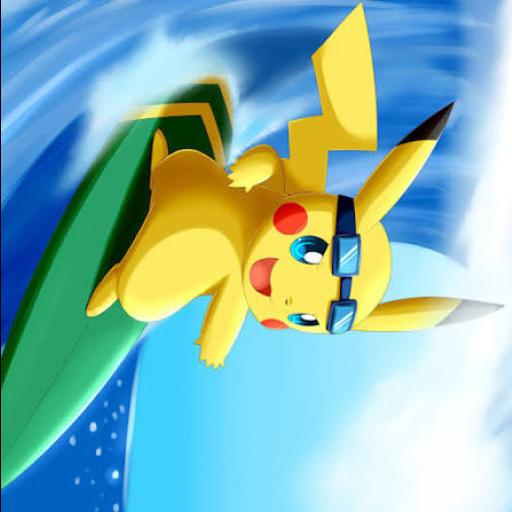Pikachu: (84, 0, 503, 370)
